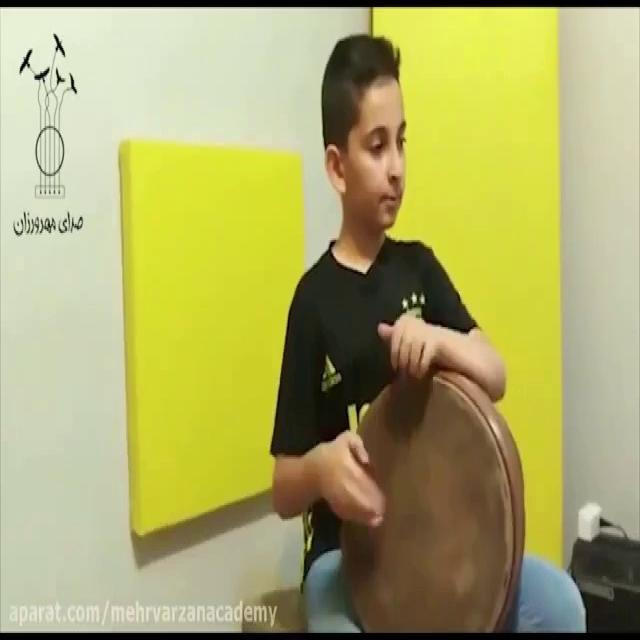Tombak: (333, 370, 529, 640)
